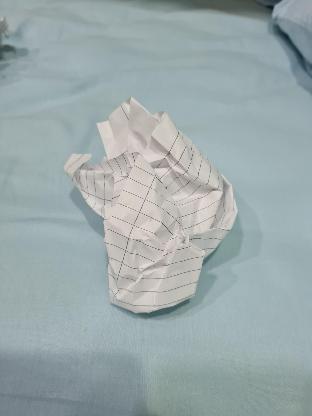Paper: (65, 98, 238, 310)
